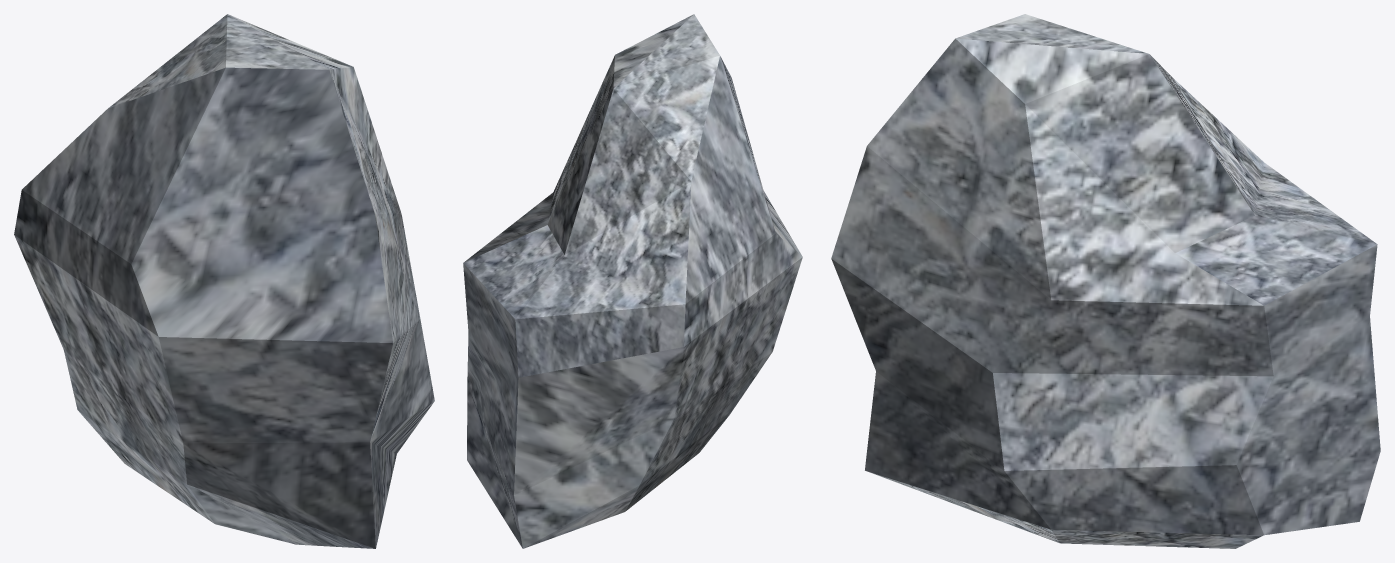
File: Pedra1.glb
3 renders of one model, left to right at view 1: azimuth 30°, elevation 25°; view 2: azimuth 150°, elevation 25°; view 3: azimuth 270°, elevation 25°, orthographic. The views are drawn at different scales.
Parts seen in each view (by area): view 1: Sphere; view 2: Sphere; view 3: Sphere.
Part boxes in pixels (x1=…): Sphere: x1=14, y1=14, x2=434, y2=548; Sphere: x1=463, y1=14, x2=802, y2=548; Sphere: x1=831, y1=14, x2=1380, y2=548.
Size of the model in its own units: 2.03 by 3.46 by 3.52.
Materials: 1 (1 with a texture image).
